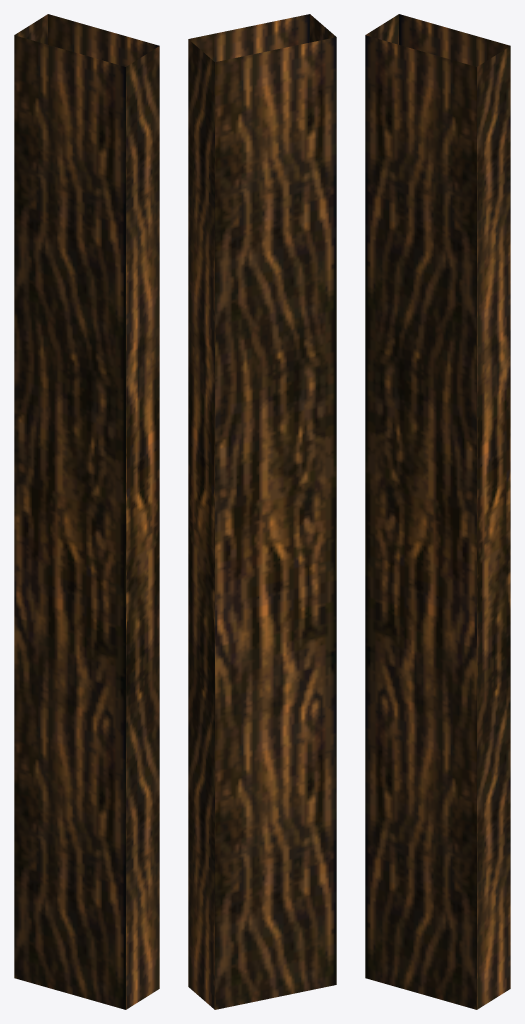
Rendered from OVERHILL_A_01_BOX83.fbx.
3 views of the same model, side by side, from view 1: azimuth 90°, elevation 25°; view 2: azimuth 150°, elevation 25°; view 3: azimuth 270°, elevation 25° (orthographic).
Visible parts, largest first — view 1: OVERHILL_A_01_BOX83; view 2: OVERHILL_A_01_BOX83; view 3: OVERHILL_A_01_BOX83.
Boxes of the visible parts, <box> form: OVERHILL_A_01_BOX83: <box>14,14,159,1009</box>; OVERHILL_A_01_BOX83: <box>188,14,336,1009</box>; OVERHILL_A_01_BOX83: <box>365,14,510,1009</box>.
Bounding box in the file's own units: 1036 × 8588 × 1202.
1 material, 1 textured.
